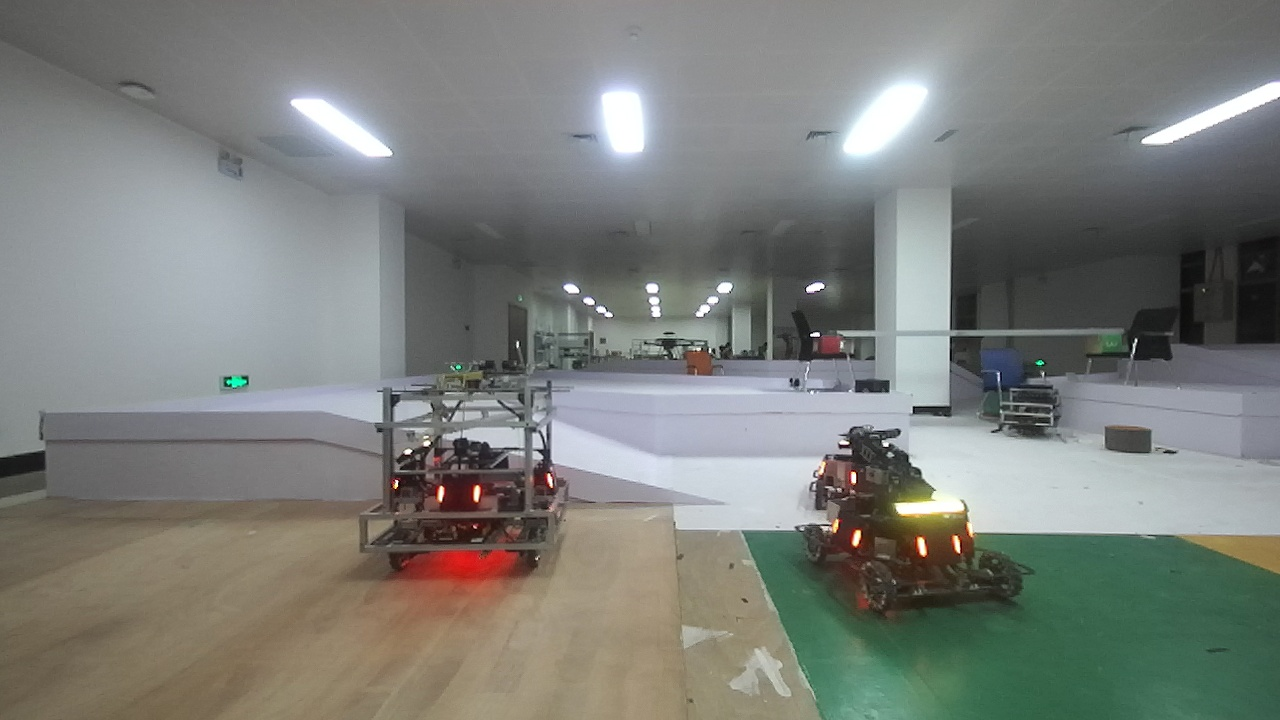car: (781, 433, 1044, 622), (363, 369, 573, 573)
